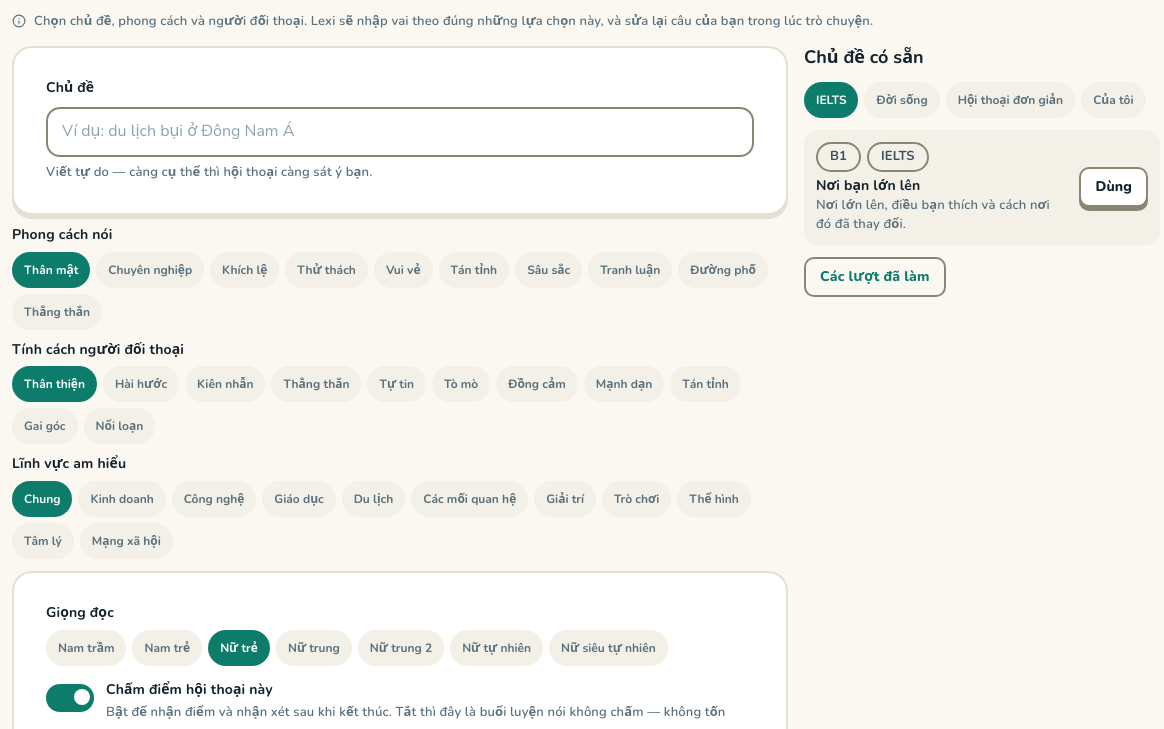
Scenario: CustomSpeakingPage — form beside the template list › opens on IELTS, has no "Tất cả" tab, and filters to the learner's own templates
Expected: the text "Nơi bạn lớn lên" is shown, [816, 176, 920, 195]
Expected: the text "Phỏng vấn ở công ty công nghệ" is not shown
Click the button "Của tôi": (1113, 100) [1081, 82, 1146, 118]
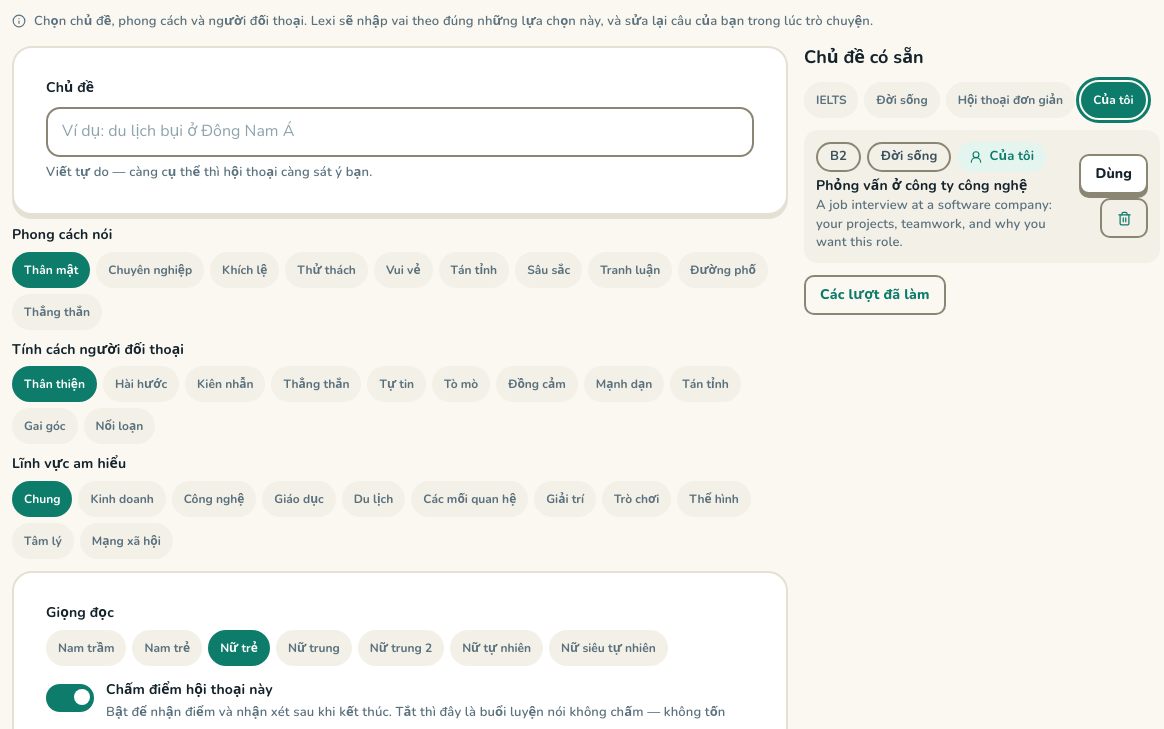
Now the text "Phỏng vấn ở công ty công nghệ" is shown, box [816, 176, 1027, 195]
Now the text "Nơi bạn lớn lên" is gone
